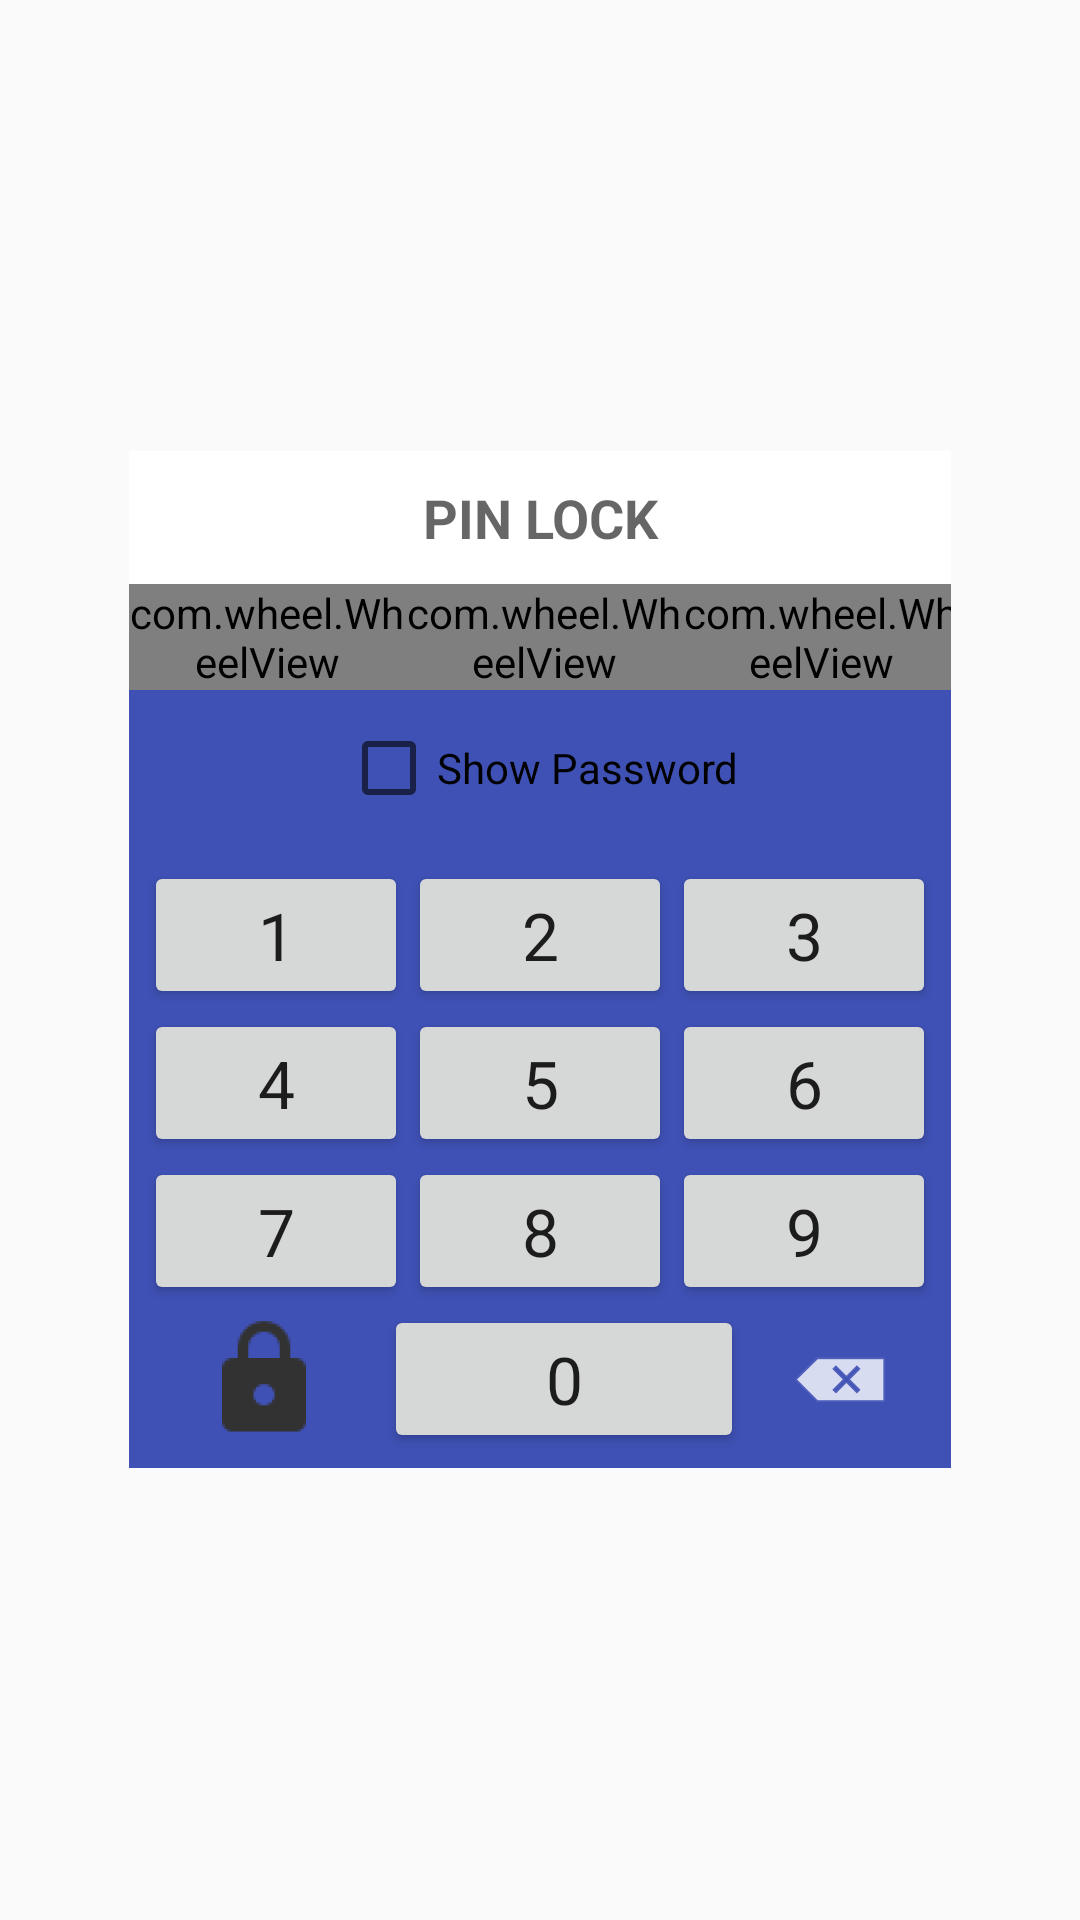

Locate icon controls on the screen. Image size 1080*1920, boxes as (x1, y1, x2, y2).
delete: (797, 1359, 884, 1401)
lock: (222, 1321, 306, 1432)
